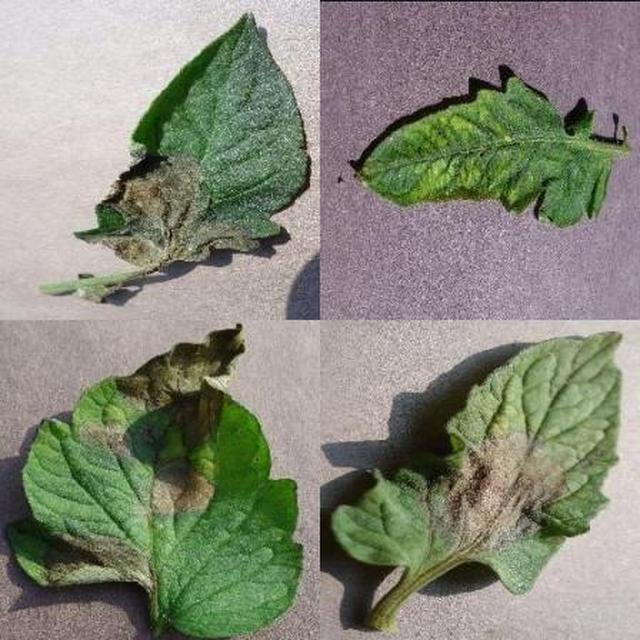Late Blight Leaf: (221, 200, 640, 640)
